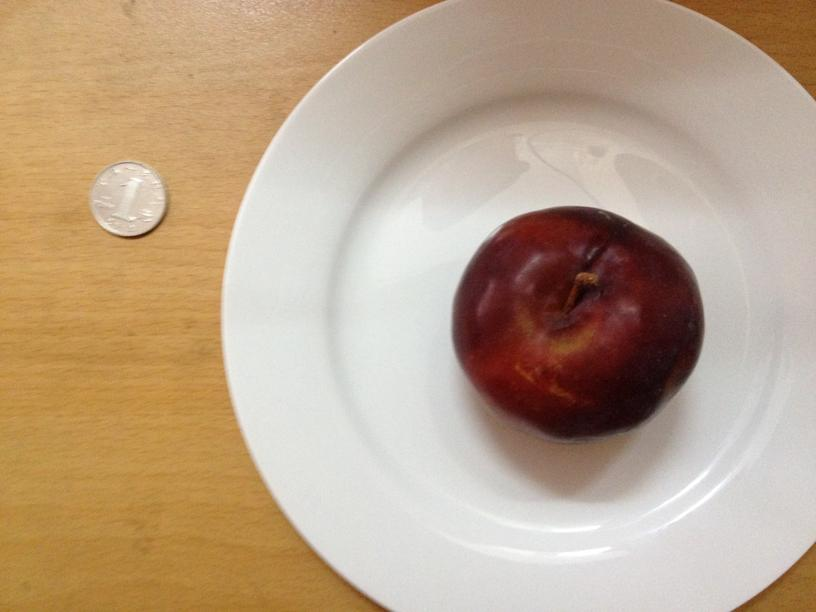coin: (87, 165, 172, 238)
plum: (458, 211, 705, 434)
